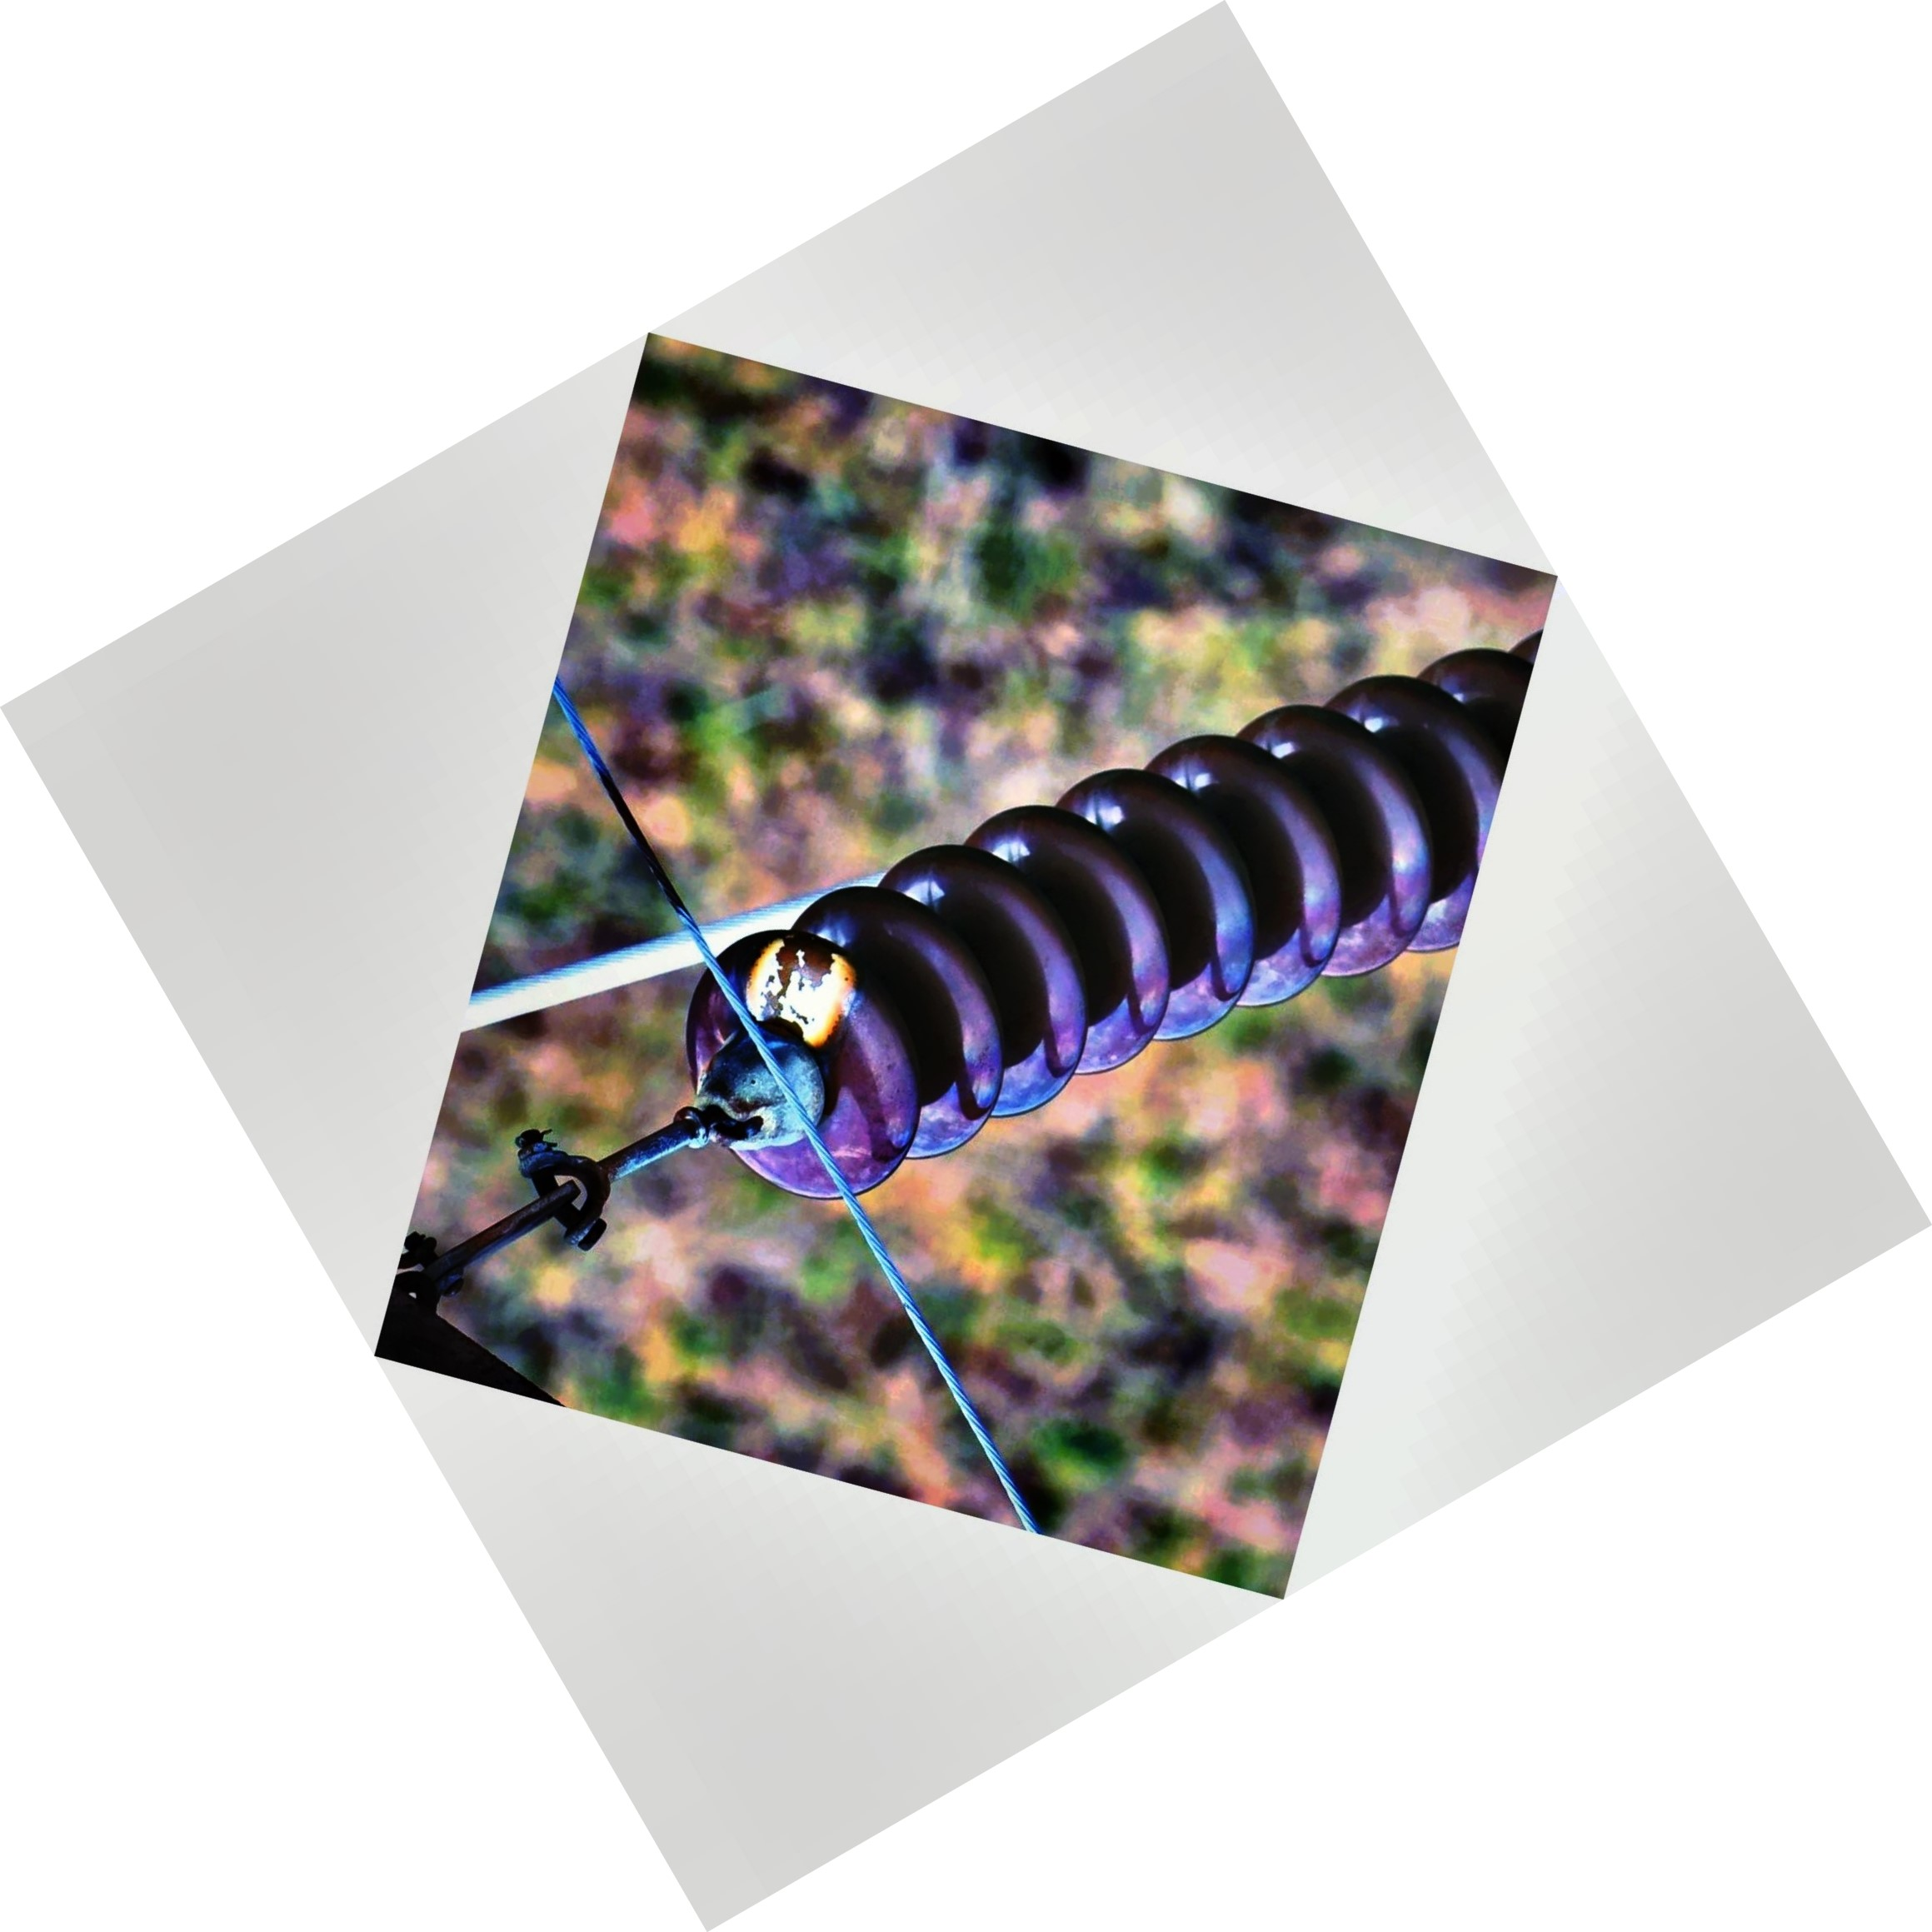Insulator flashover: (674, 904, 932, 1212)
